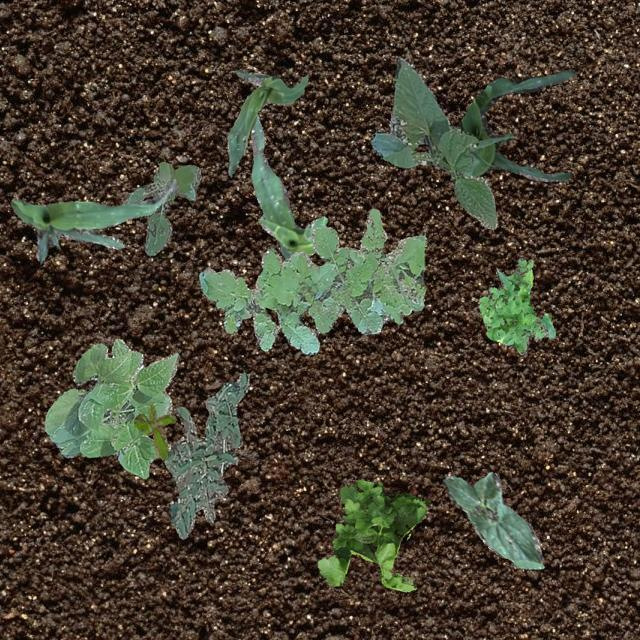crop: (369, 58, 496, 228), (44, 338, 178, 478), (9, 178, 178, 262), (456, 68, 574, 180), (250, 113, 326, 260), (442, 472, 544, 568), (226, 68, 306, 176)
weed: (198, 206, 426, 354), (164, 372, 248, 538), (316, 478, 428, 590), (478, 256, 554, 354), (122, 160, 200, 254), (132, 404, 176, 458)
